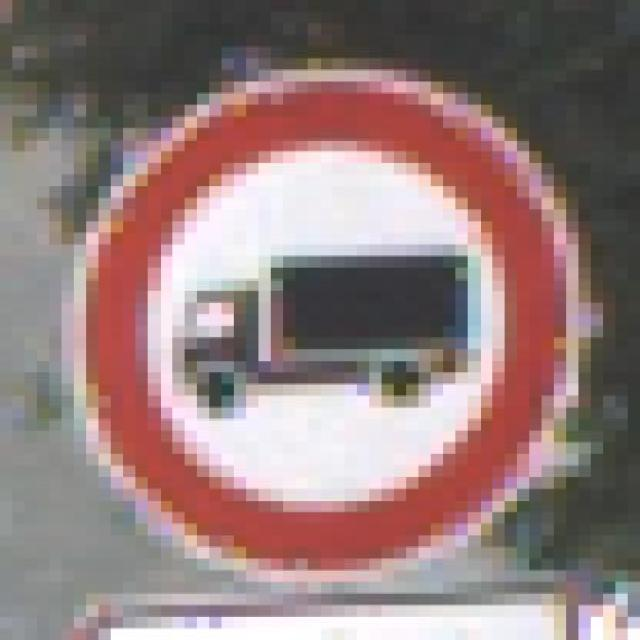Truck traffic is prohibited: (49, 58, 616, 582)
